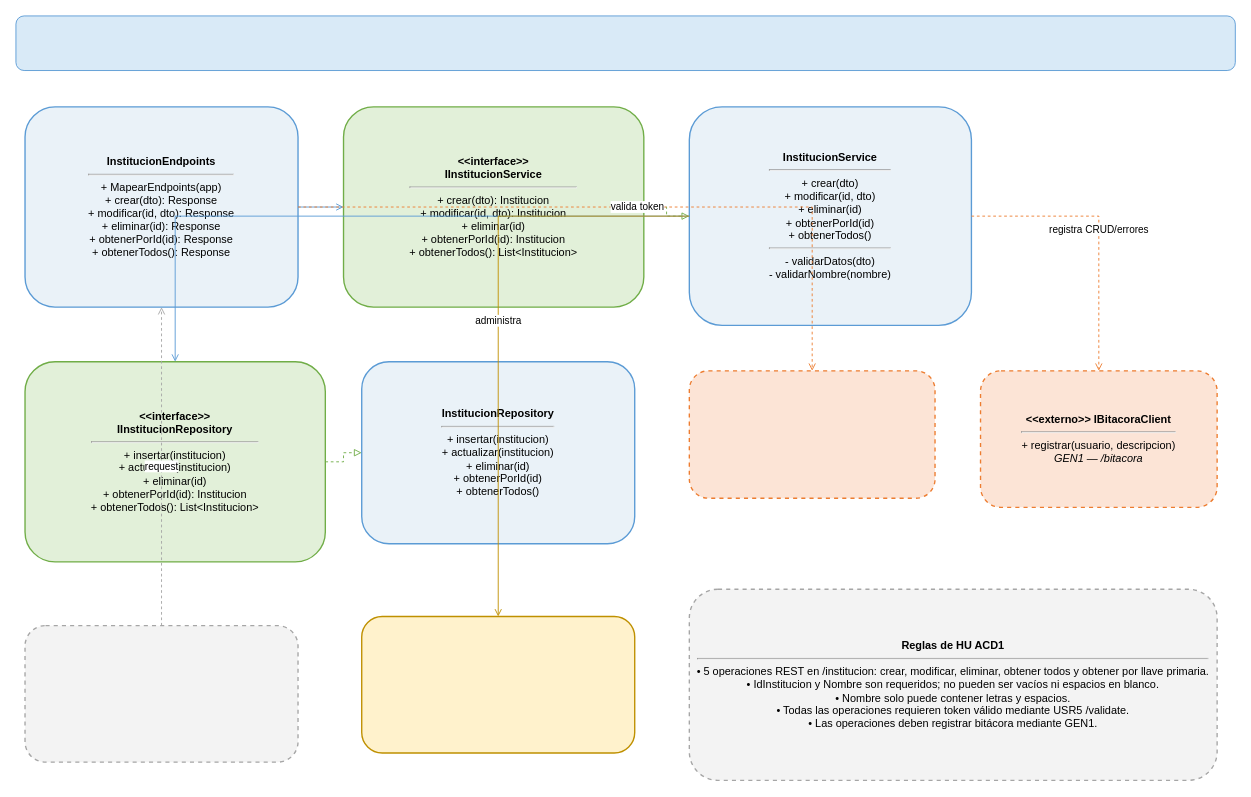
The diagram is 1251 pixels wide and 797 high, and some of its shapes have lost their labels. The centre of each missing label's shape, as x and y in pixels:
"<<DTO>> InstitucionRequest + IdInstitucion: string + Nombre: string" goes at point (161, 693).
"<<Entity>> Institucion + IdInstitucion: string + Nombre: string" goes at point (498, 684).
"<<externo>> ITokenValidator + validar(token): bool USR5 — /validate" goes at point (811, 434).
"ACD1 — DIAGRAMA DE CLASES: ADMINISTRACIÓN DE INSTITUCIONES" goes at point (625, 43).
